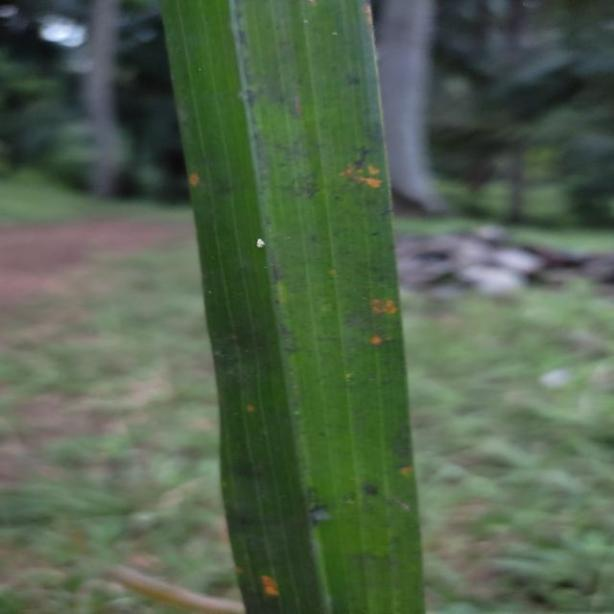Kalium: (153, 0, 427, 614)
